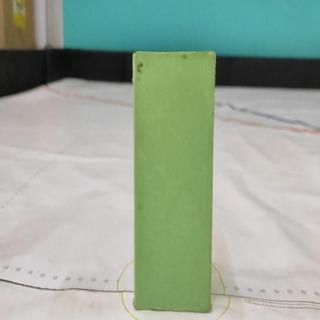greenbox: (132, 51, 213, 312)
